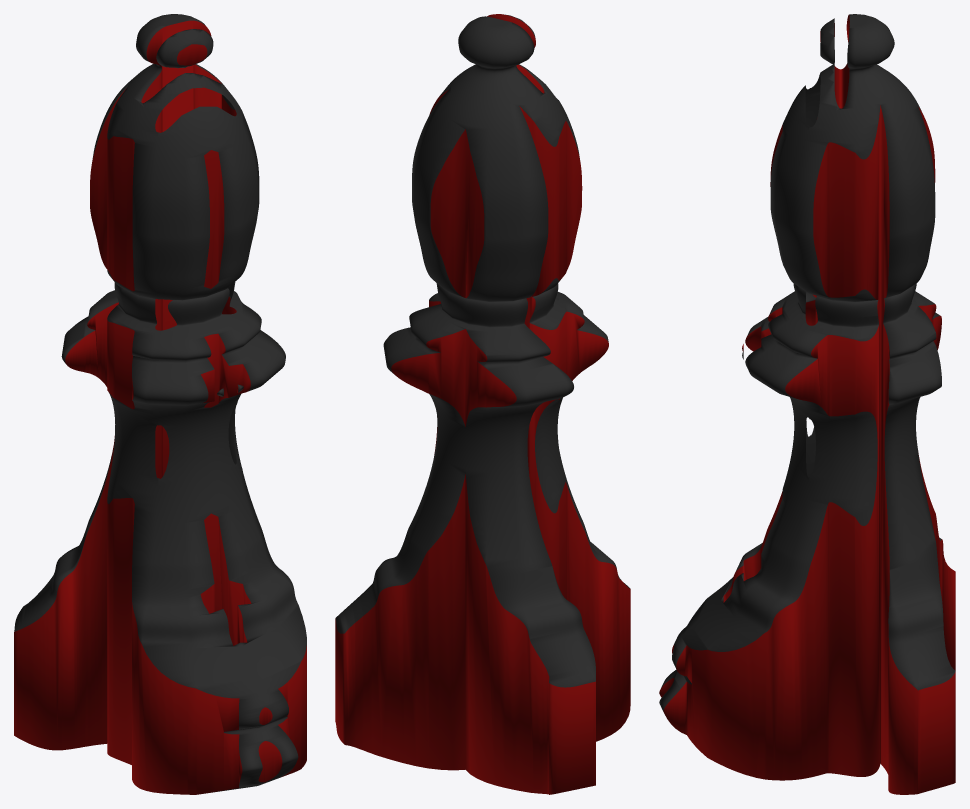
Rendered from BlackBishop.fbx.
3 views of the same model, side by side, from view 1: azimuth 30°, elevation 25°; view 2: azimuth 150°, elevation 25°; view 3: azimuth 270°, elevation 25° (orthographic).
Parts seen in each view (by area): view 1: Bishop.001; view 2: Bishop.001; view 3: Bishop.001.
Part boxes in pixels (bbox=[...]): Bishop.001: bbox=[14, 14, 306, 794]; Bishop.001: bbox=[335, 14, 630, 794]; Bishop.001: bbox=[659, 14, 955, 794].
Size of the model in its own units: 56.96 by 152 by 56.12.
